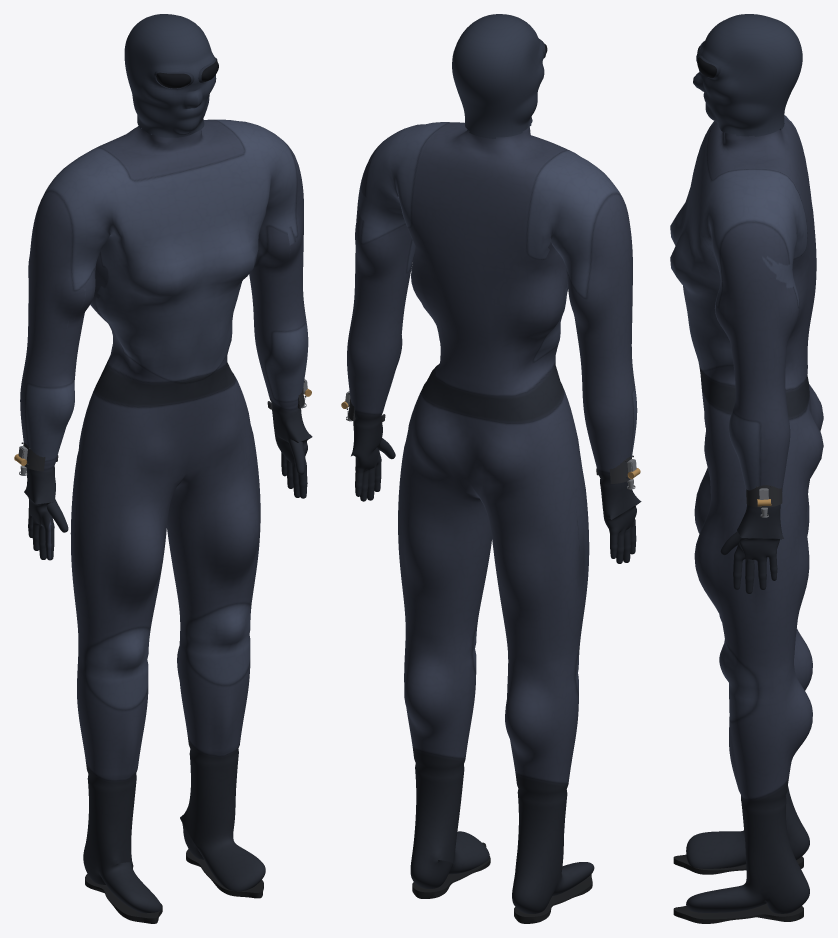
Rendered from suit.hero.glb.
The picture shows the model from 3 angles, left to right: view 1: azimuth 30°, elevation 25°; view 2: azimuth 150°, elevation 25°; view 3: azimuth 270°, elevation 25°; orthographic projection.
Parts seen in each view (by area): view 1: SuitBody, SuitMask, SuitSoleR, SuitSoleL; view 2: SuitBody, SuitMask, SuitSoleR, SuitSoleL; view 3: SuitBody, SuitMask, SuitSoleL, SuitSoleR, wristHousingL.
Boxes of the visible parts, <box> form: SuitBody: <box>20,119,312,913</box>; SuitMask: <box>124,14,216,137</box>; SuitSoleR: <box>85,874,162,923</box>; SuitSoleL: <box>186,849,263,898</box>; SuitBody: <box>347,122,641,913</box>; SuitMask: <box>452,14,544,138</box>; SuitSoleR: <box>514,874,592,923</box>; SuitSoleL: <box>412,842,490,898</box>; SuitBody: <box>670,115,823,913</box>; SuitMask: <box>693,14,802,136</box>; SuitSoleL: <box>673,903,803,923</box>; SuitSoleR: <box>673,854,803,874</box>; wristHousingL: <box>746,485,782,507</box>.
Bounding box in the file's own units: 0.6046 × 1.72 × 0.2742.
8 materials, 2 textured.
